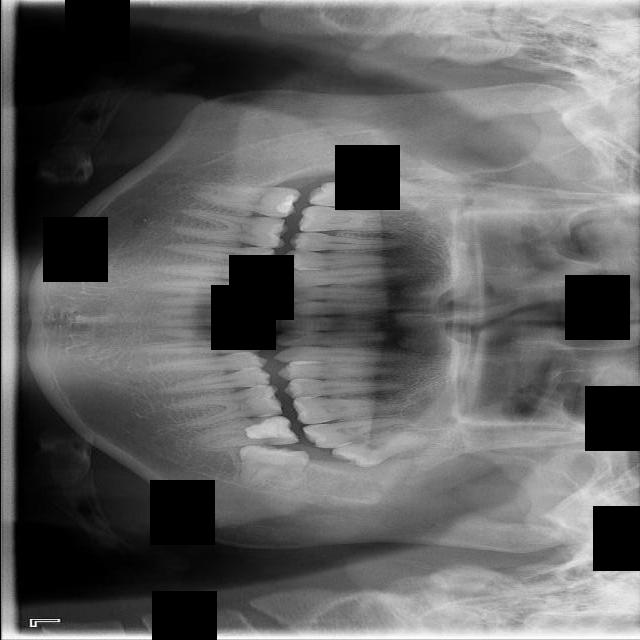3M ESPE Implant: (341, 160, 441, 206)
52: (253, 185, 301, 220), (250, 414, 298, 447)
73: (44, 594, 58, 604)
BioHorizons Implant: (301, 413, 415, 452)
BioLife Implant: (328, 427, 431, 474)
Biomet 3i Implant: (234, 442, 310, 493)
Blue Sky Bio Implant: (190, 413, 299, 450)
Caries: (305, 179, 421, 216)
Implant: (189, 182, 300, 219)
